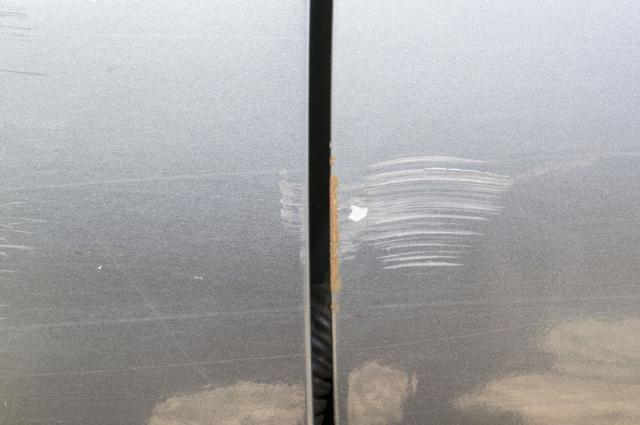Door: (0, 82, 313, 425), (334, 74, 526, 425)
